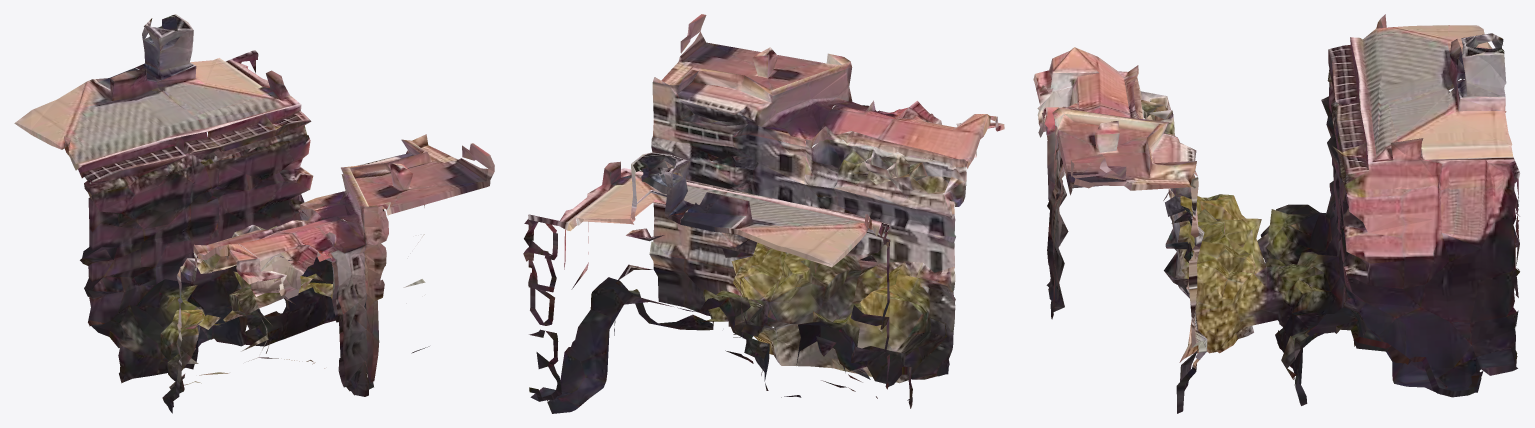
3 views of the same model, side by side, from view 1: azimuth 30°, elevation 25°; view 2: azimuth 150°, elevation 25°; view 3: azimuth 270°, elevation 25° (orthographic). The views are drawn at different scales.
Visible parts, largest first — view 1: Mesh_0; view 2: Mesh_0; view 3: Mesh_0.
Boxes of the visible parts, x1,y1,x2,y2 form: Mesh_0: [14, 14, 494, 413]; Mesh_0: [523, 14, 1004, 413]; Mesh_0: [1033, 14, 1520, 413].
Size of the model in its own units: 33.78 by 28.07 by 41.46.
1 material, 1 textured.
